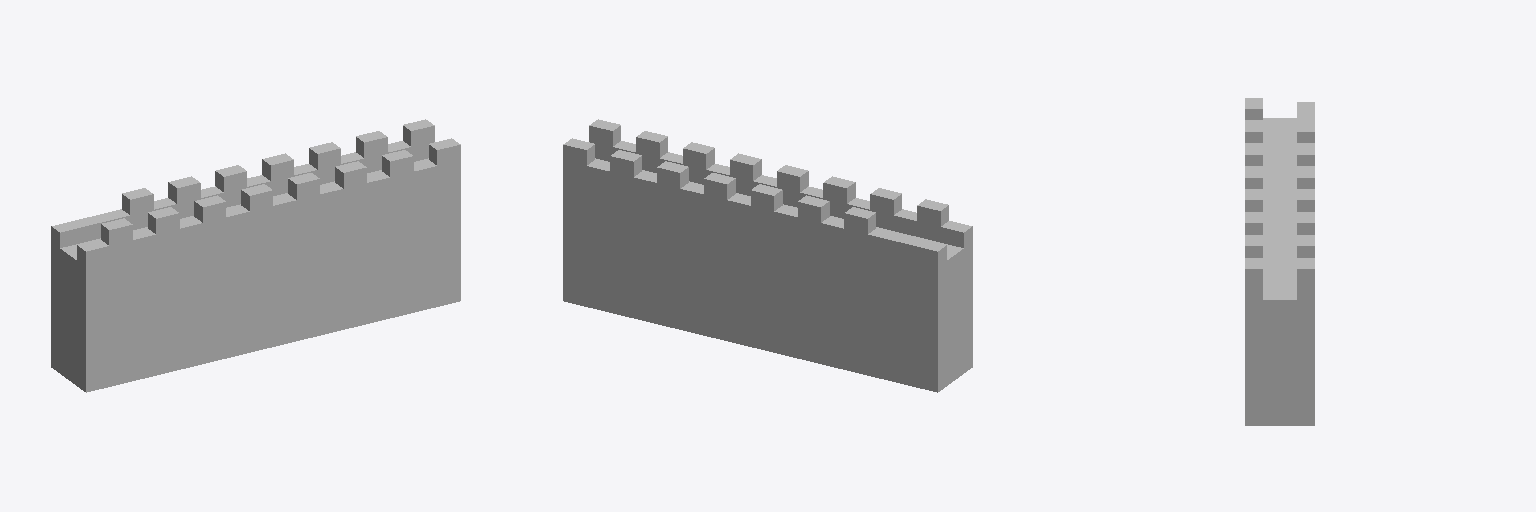
Rendered from fal.obj.
3 views of the same model, side by side, from view 1: azimuth 30°, elevation 25°; view 2: azimuth 150°, elevation 25°; view 3: azimuth 270°, elevation 25° (orthographic).
Parts seen in each view (by area): view 1: Cube.002; view 2: Cube.002; view 3: Cube.002.
Part boxes in pixels (left/top/right/bottom): Cube.002: left=51, top=119, right=460, bottom=392; Cube.002: left=563, top=119, right=972, bottom=392; Cube.002: left=1245, top=98, right=1314, bottom=425.
Bounding box in the file's own units: 25 × 10 × 4.